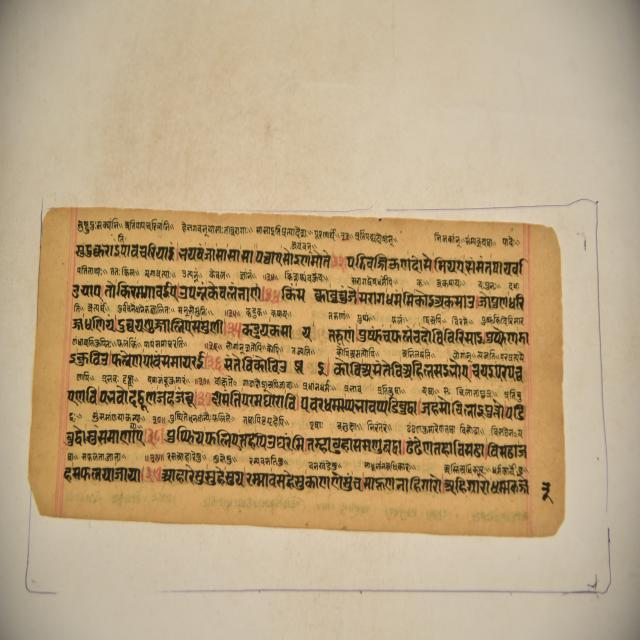text_paragraph: (28, 207, 561, 542)
